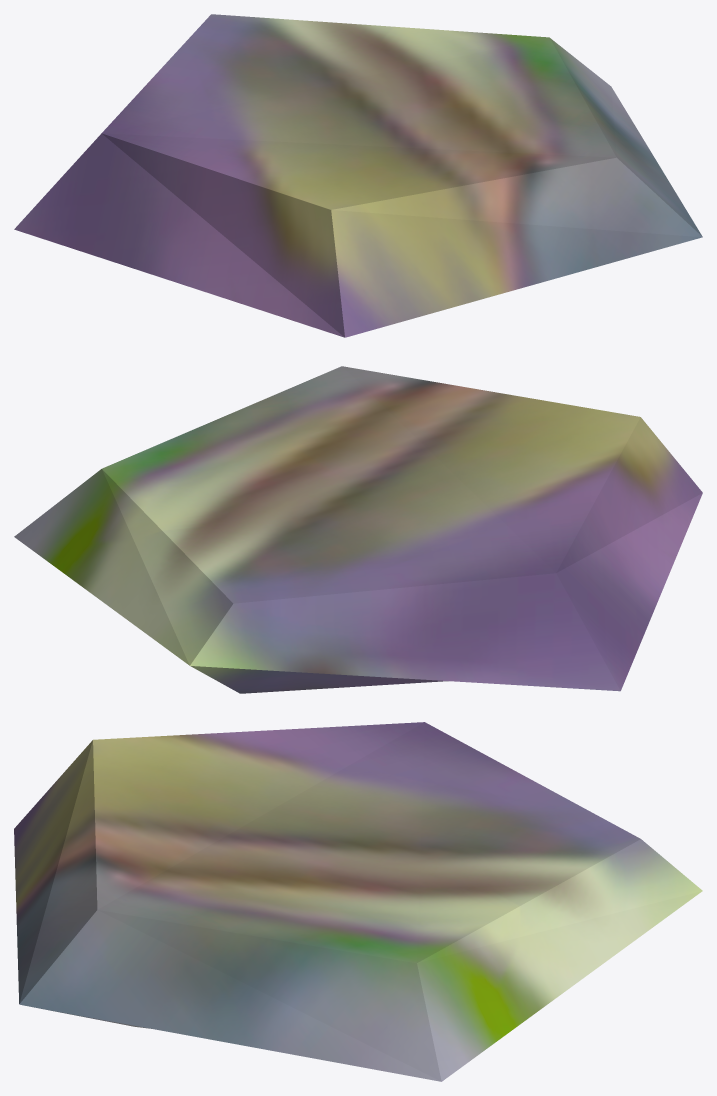
The model's file is PlateTree_1_Plate_1.gltf.
3 views of the same model, one above another, from view 1: azimuth 30°, elevation 25°; view 2: azimuth 150°, elevation 25°; view 3: azimuth 270°, elevation 25° (orthographic). The views are drawn at different scales.
Visible parts, largest first — view 1: PlateTree_1_Plate_1; view 2: PlateTree_1_Plate_1; view 3: PlateTree_1_Plate_1.
Part boxes in pixels (x1,y1,x2,y2): PlateTree_1_Plate_1: [14, 14, 702, 337]; PlateTree_1_Plate_1: [14, 366, 702, 693]; PlateTree_1_Plate_1: [14, 722, 702, 1081].
Bounding box in the file's own units: 1.52 × 0.3468 × 1.44.
1 material, 1 textured.
